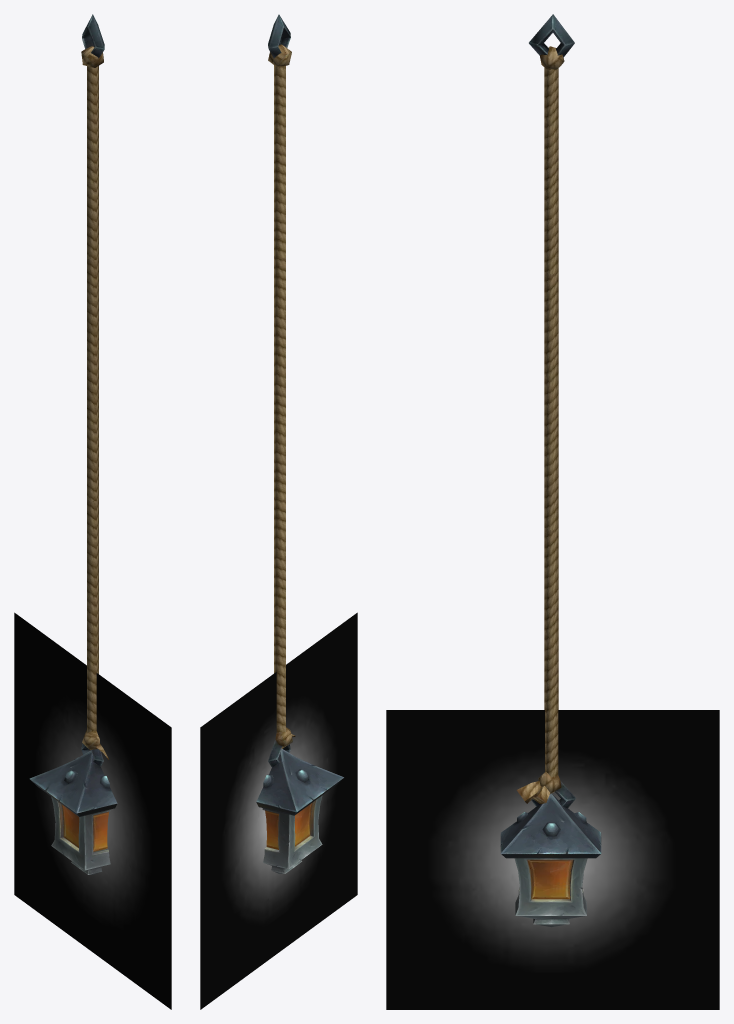
3 views of the same model, side by side, from view 1: azimuth 30°, elevation 25°; view 2: azimuth 150°, elevation 25°; view 3: azimuth 270°, elevation 25° (orthographic). The views are drawn at different scales.
Size of the model in its own units: 0.8122 by 8.92 by 2.7.
Materials: 2 (2 with a texture image).
